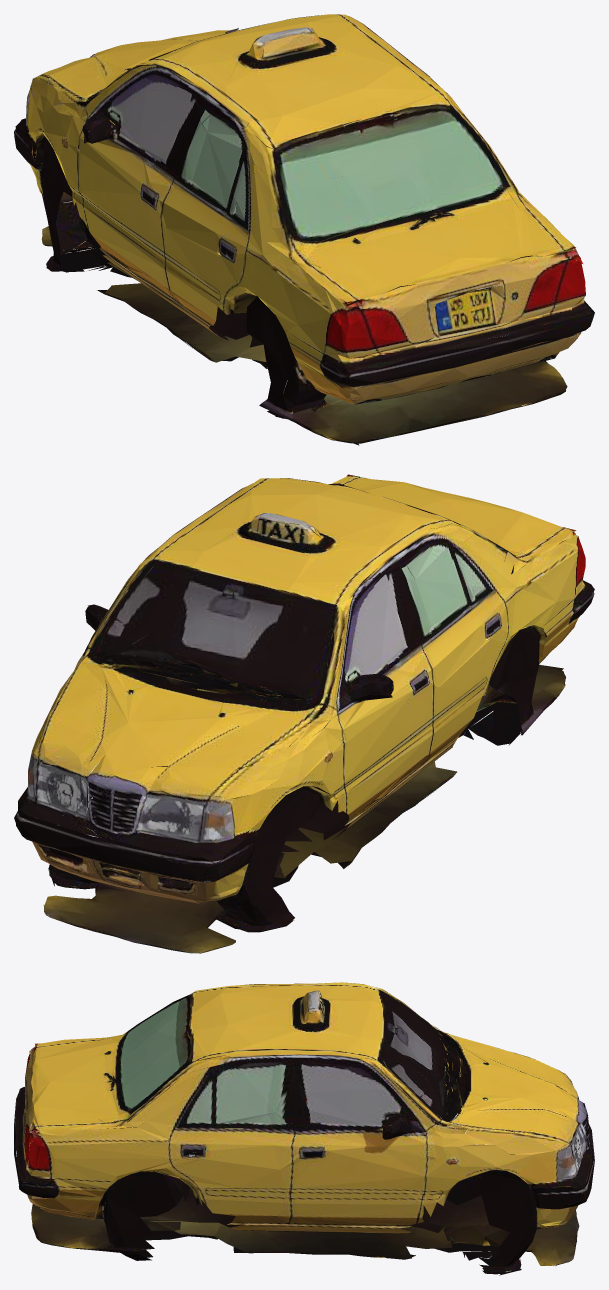
Rendered from taxi_body.glb.
3 renders of one model, top to bottom at view 1: azimuth 30°, elevation 25°; view 2: azimuth 150°, elevation 25°; view 3: azimuth 270°, elevation 25°, orthographic. The views are drawn at different scales.
Visible parts, largest first — view 1: geometry_0; view 2: geometry_0; view 3: geometry_0.
Boxes of the visible parts, x1,y1,x2,y2 form: geometry_0: (14,14,594,445); geometry_0: (14,474,594,953); geometry_0: (14,982,594,1275).
Bounding box in the file's own units: 0.4804 × 0.4469 × 1.
1 material, 1 textured.
